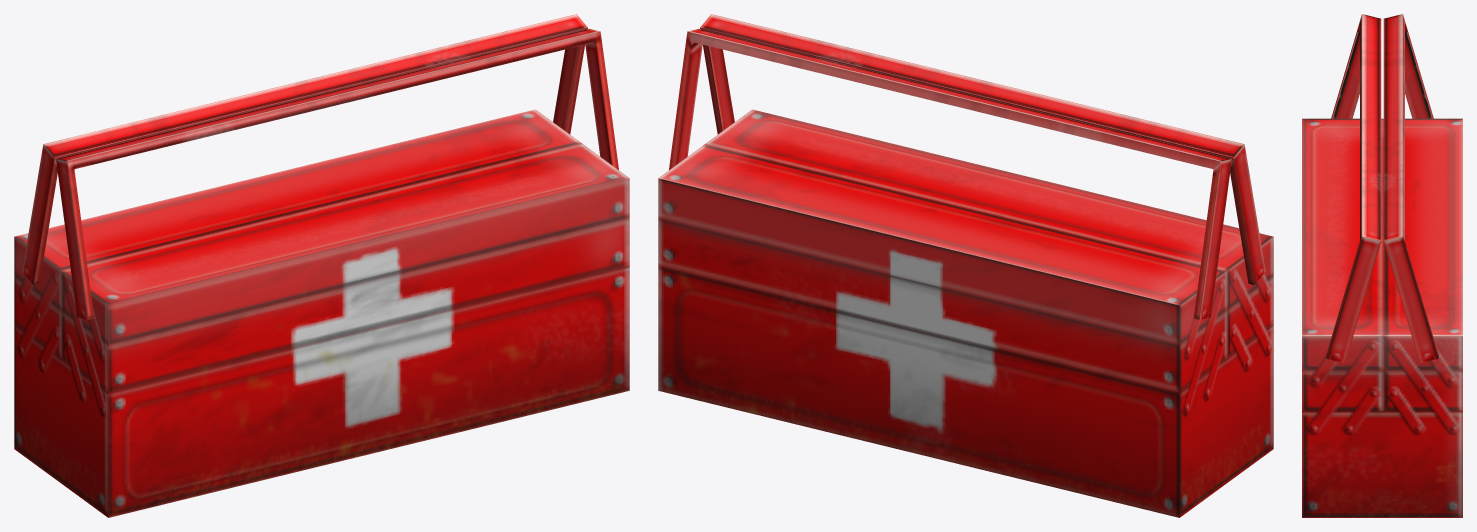
File: Health_Regenration.obj
3 views of the same model, side by side, from view 1: azimuth 30°, elevation 25°; view 2: azimuth 150°, elevation 25°; view 3: azimuth 270°, elevation 25° (orthographic). The views are drawn at different scales.
Visible parts, largest first — view 1: Regenration; view 2: Regenration; view 3: Regenration.
Boxes of the visible parts, x1,y1,x2,y2 form: Regenration: (14,14,629,517); Regenration: (658,14,1273,517); Regenration: (1302,14,1462,517).
Size of the model in its own units: 19.24 by 11.45 by 5.88.
